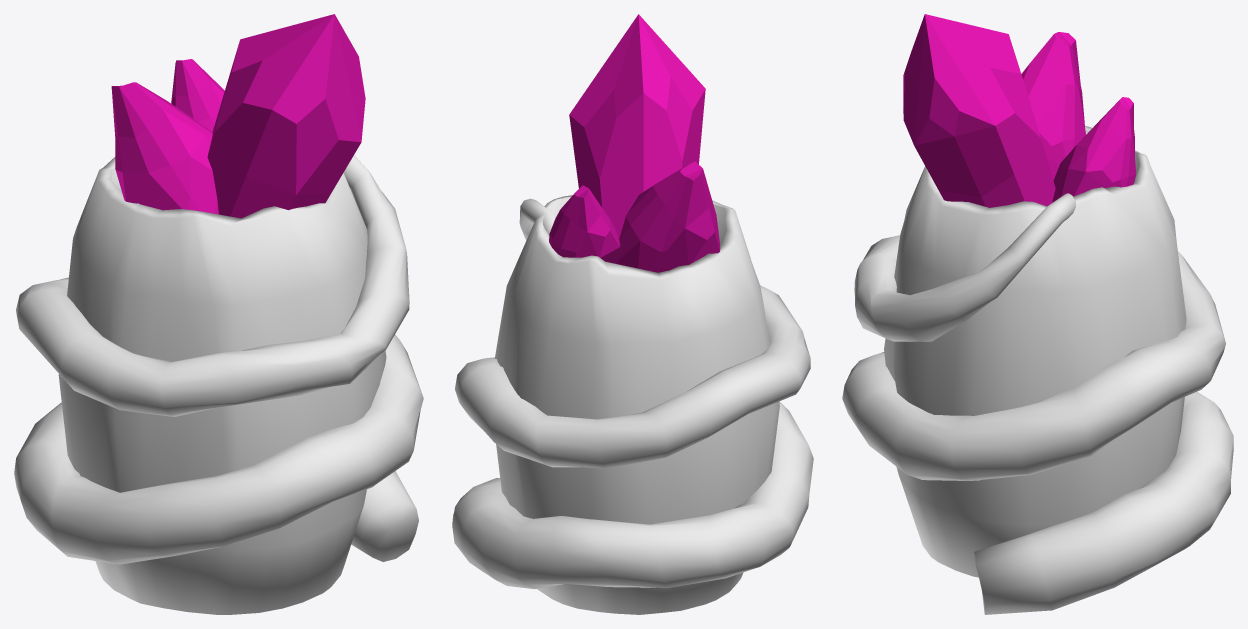
Rendered from Barrel.fbx.
The picture shows the model from 3 angles, left to right: view 1: azimuth 30°, elevation 25°; view 2: azimuth 150°, elevation 25°; view 3: azimuth 270°, elevation 25°; orthographic projection. The views are drawn at different scales.
Visible parts, largest first — view 1: BarrelBody, BarrelVine, BarrelCrystals; view 2: BarrelBody, BarrelVine, BarrelCrystals; view 3: BarrelBody, BarrelVine, BarrelCrystals.
Part boxes in pixels (x1=…): BarrelBody: x1=58, y1=157, x2=386, y2=614; BarrelVine: x1=14, y1=155, x2=423, y2=564; BarrelCrystals: x1=111, y1=14, x2=365, y2=218; BarrelBody: x1=494, y1=195, x2=779, y2=614; BarrelVine: x1=452, y1=198, x2=813, y2=589; BarrelCrystals: x1=549, y1=14, x2=720, y2=272; BarrelBody: x1=884, y1=126, x2=1186, y2=577; BarrelVine: x1=842, y1=193, x2=1233, y2=614; BarrelCrystals: x1=903, y1=14, x2=1136, y2=207.
Bounding box in the file's own units: 1.44 × 2.3 × 1.46.
